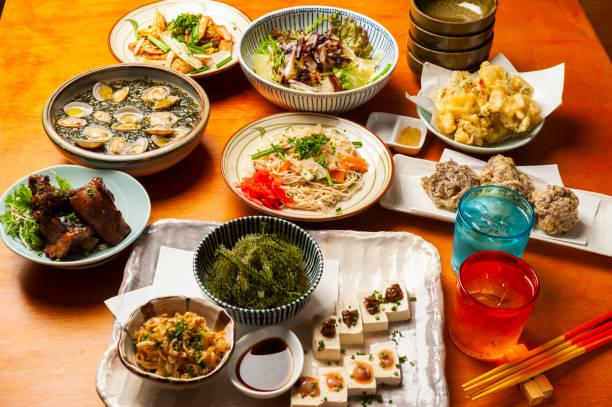Braised Crucian Carp: (380, 148, 606, 256), (221, 110, 390, 221), (41, 62, 206, 175), (237, 4, 395, 113), (1, 163, 150, 267), (192, 215, 321, 325), (107, 0, 249, 79), (420, 80, 550, 142)
